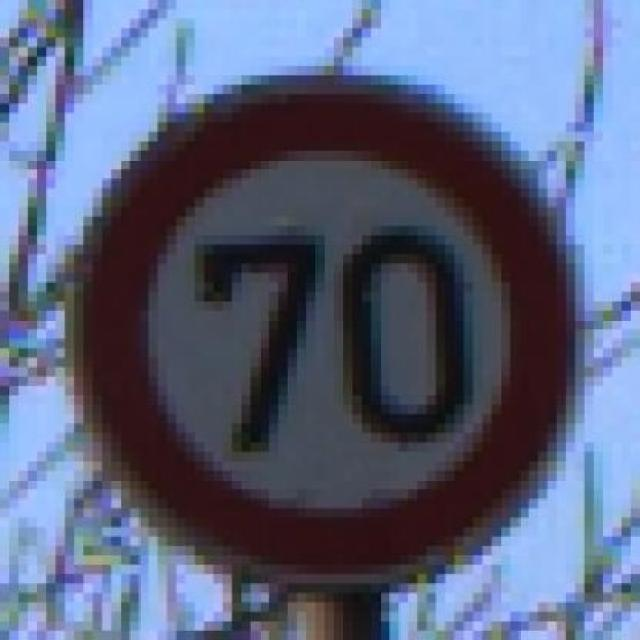forb_speed_over_70: (86, 82, 572, 582)
